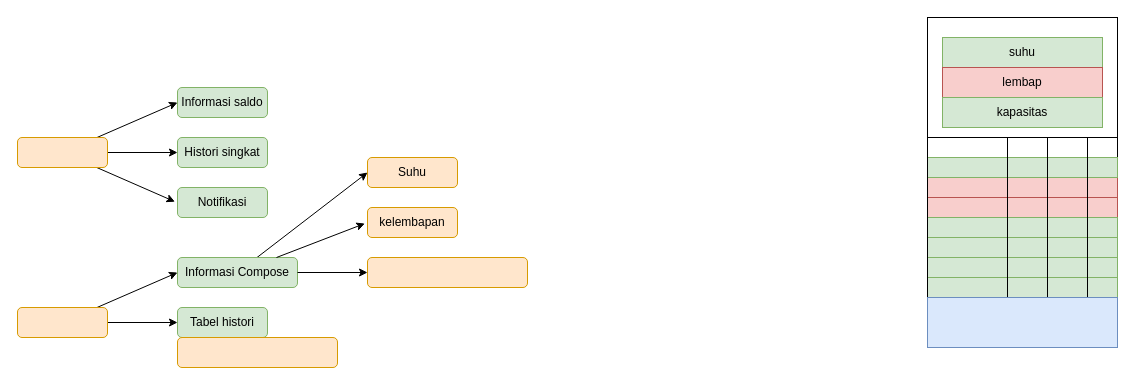
Image size: 1135x385. Some labels were removed from this diagram. The shapes that lost their labels are listed below. From the top down, each one's centre as x and y in pixels, then its label:
At (x=62, y=152): "dashboard".
At (x=447, y=272): "Tinggi penuhnya compose".
At (x=62, y=322): "Compose".
